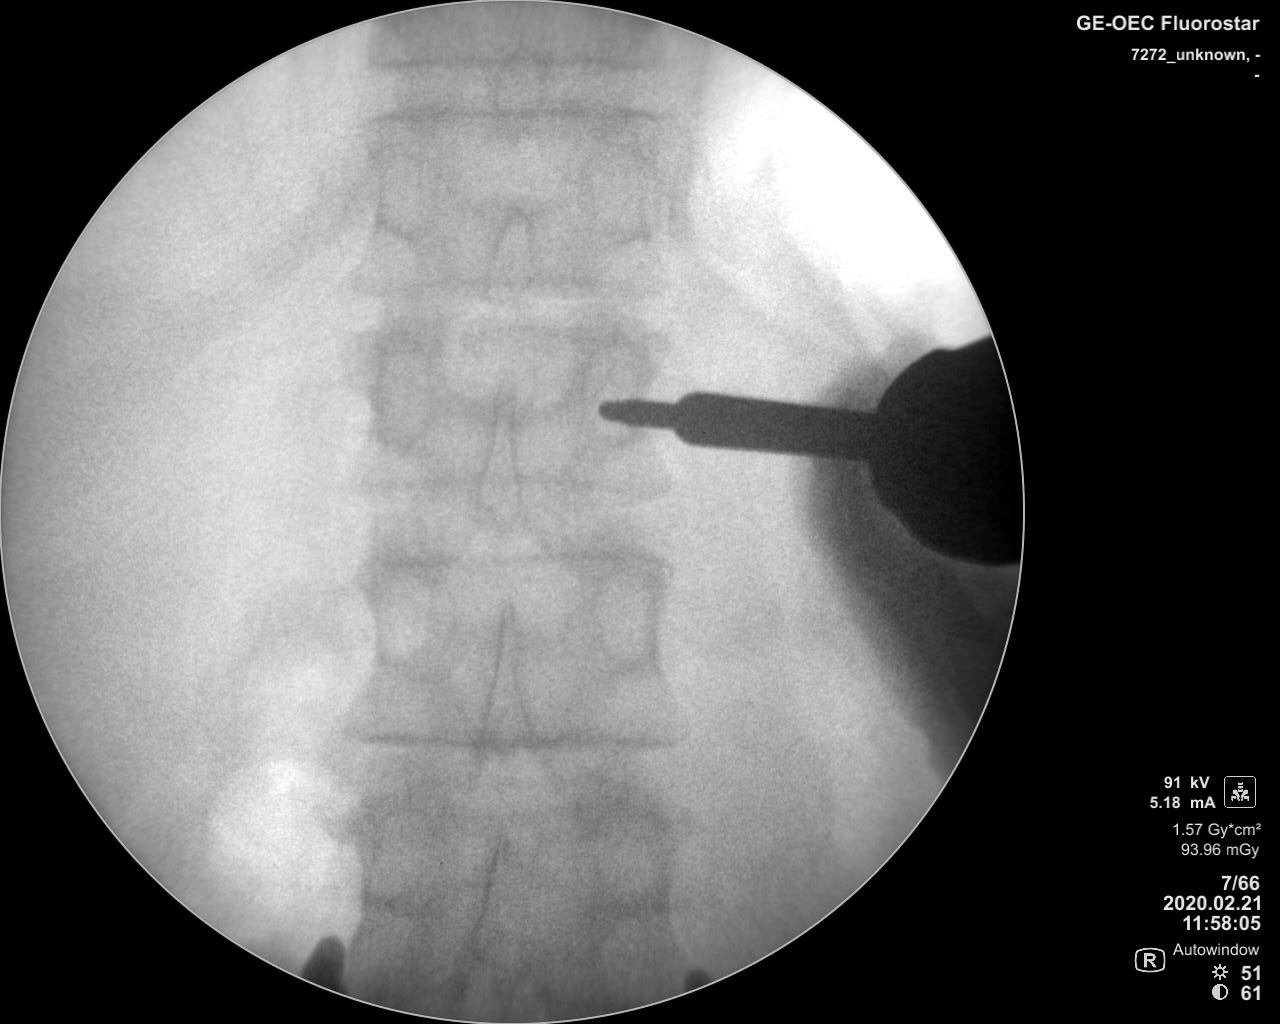eyes: (344, 795, 446, 915), (572, 126, 655, 250), (581, 804, 670, 913), (365, 127, 441, 243), (363, 329, 436, 448), (572, 341, 650, 440), (362, 563, 435, 665), (592, 571, 661, 670)
line: (355, 96, 681, 139), (329, 540, 684, 577), (339, 725, 689, 760), (325, 273, 670, 306), (359, 50, 672, 85), (330, 466, 674, 496)
nose: (465, 818, 529, 970), (478, 603, 536, 765), (470, 376, 526, 530), (478, 191, 540, 311), (491, 25, 546, 141)
